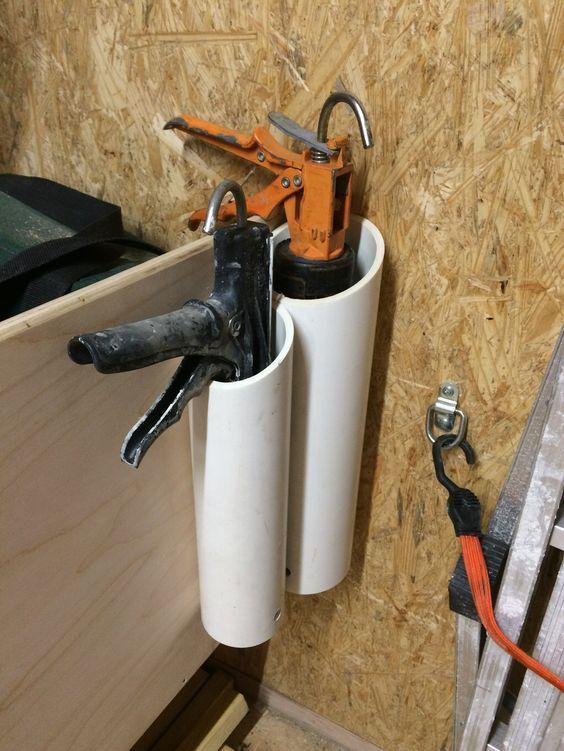PVC: (283, 288, 379, 595), (188, 372, 293, 649)
